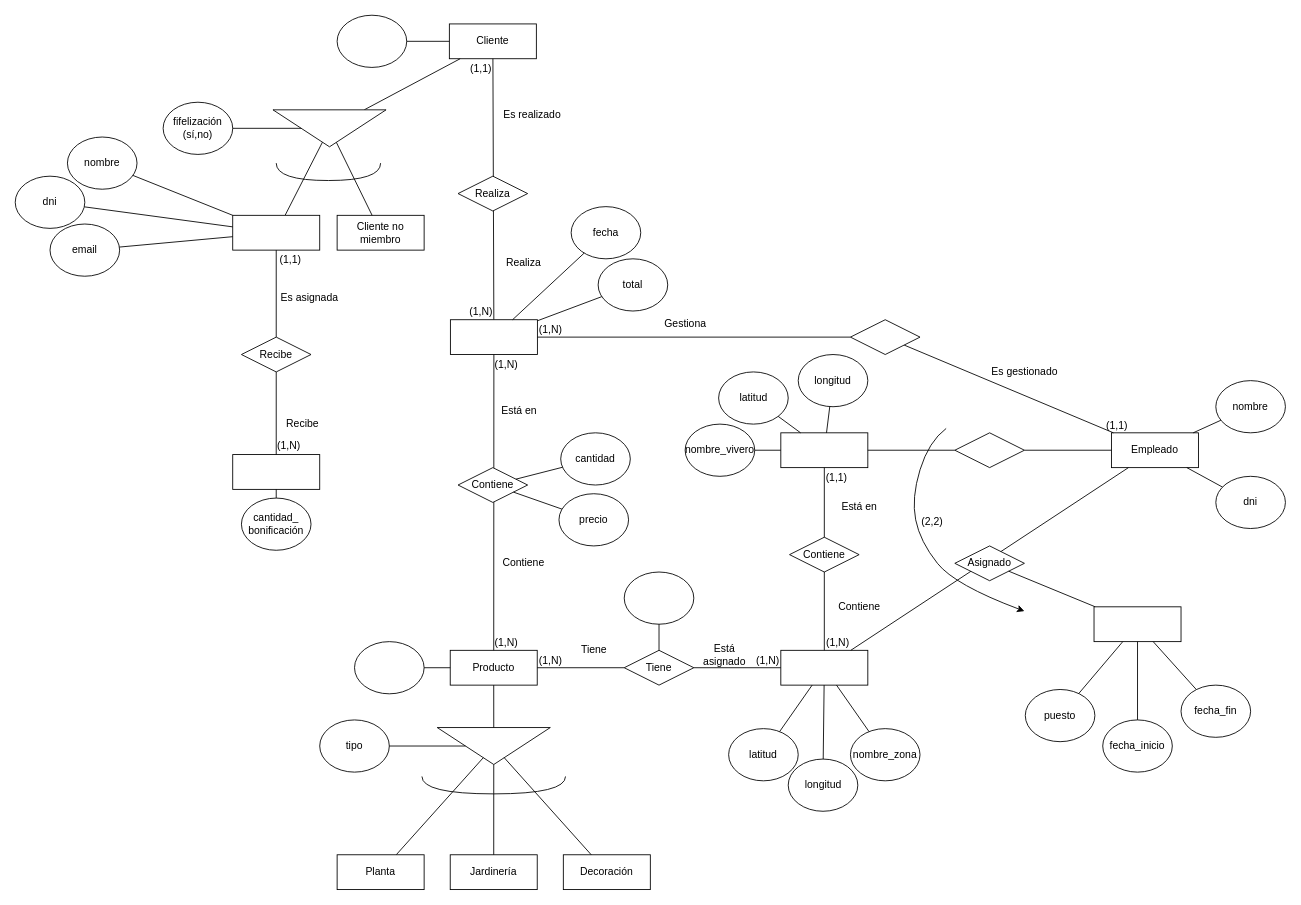
Image size: 1301x905. Some labels were removed from this diagram. The shapes that lost their labels are listed below. From the top down, each one's centre as x and y in pixels, then its label:
the point at 371,40: id_cliente
the point at 276,232: Cliente miembro
the point at 493,337: Pedido
the point at 885,337: Gestionado
the point at 824,450: Vivero
the point at 989,450: Trabaja
the point at 276,471: Bonificación
the point at 658,597: cantidad_ disponble
the point at 1137,624: asignacion_ empleado
the point at 389,667: nombre_ producto
the point at 824,667: Zona
